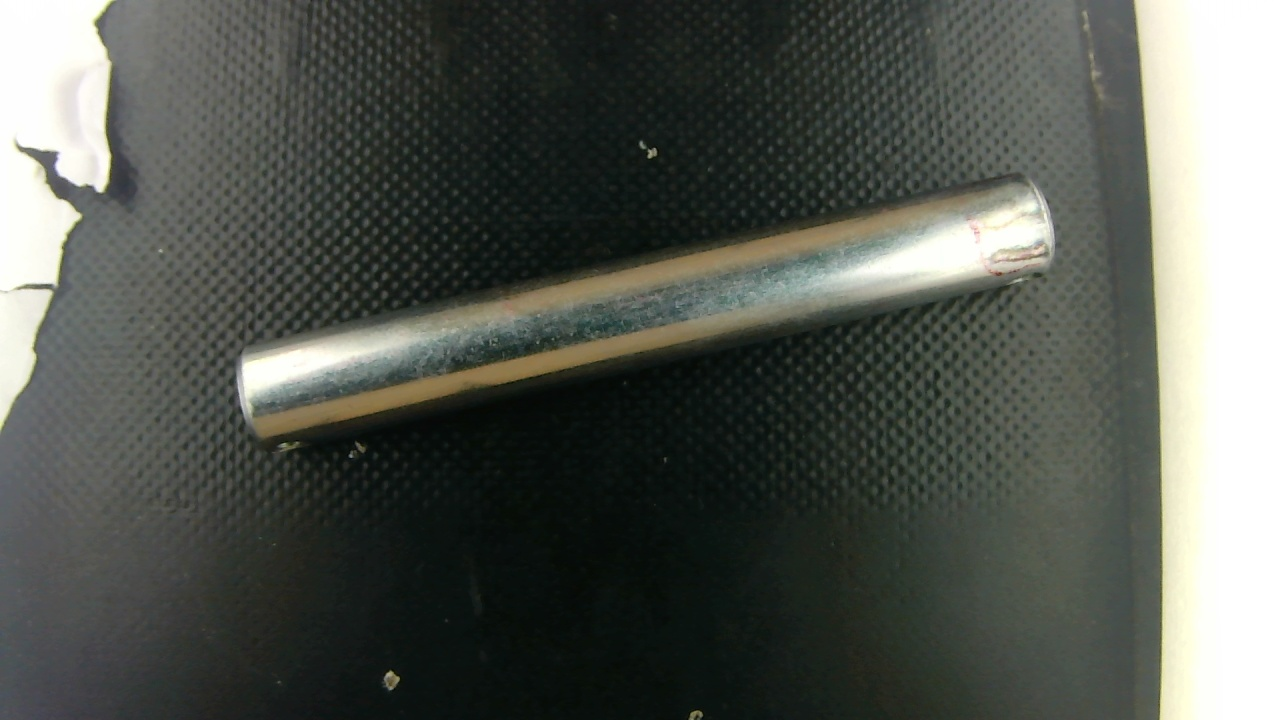black patch_pin: (976, 236, 1055, 271)
